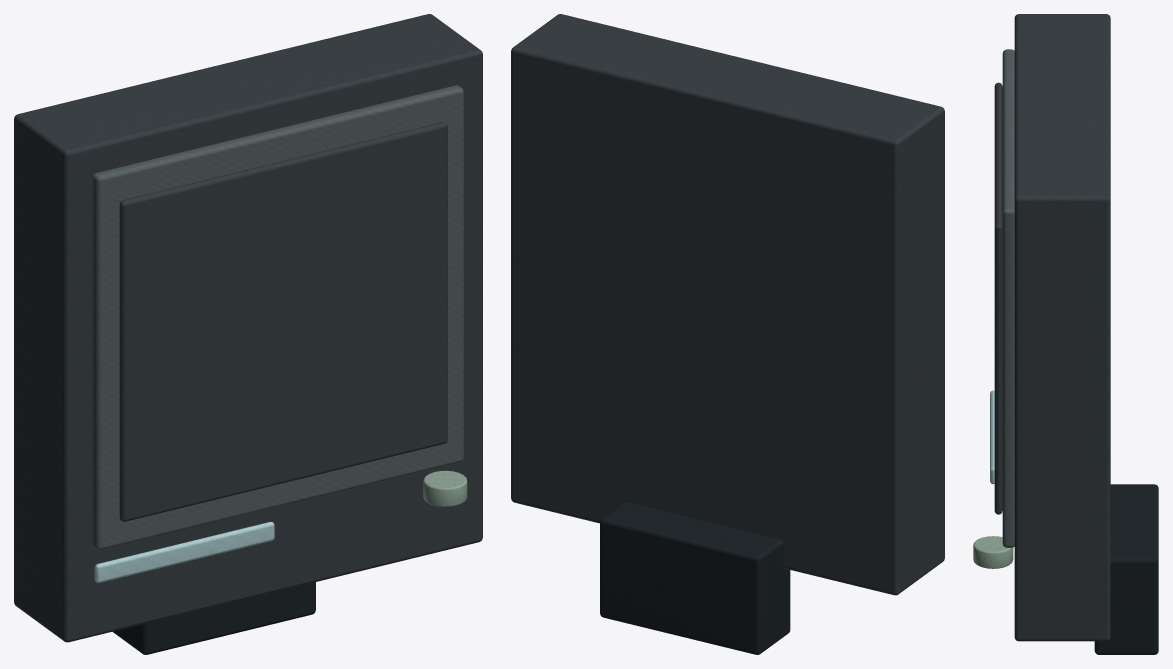
Rendered from WallMonitor.fbx.
3 views of the same model, side by side, from view 1: azimuth 30°, elevation 25°; view 2: azimuth 150°, elevation 25°; view 3: azimuth 270°, elevation 25° (orthographic). The views are drawn at different scales.
Visible parts, largest first — view 1: WallMonitor_Mesh; view 2: WallMonitor_Mesh; view 3: WallMonitor_Mesh.
Part boxes in pixels (x1=…): WallMonitor_Mesh: x1=14, y1=14, x2=482, y2=654; WallMonitor_Mesh: x1=511, y1=14, x2=944, y2=654; WallMonitor_Mesh: x1=973, y1=14, x2=1158, y2=654.
Bounding box in the file's own units: 82 × 106 × 34.75.
5 materials, 5 textured.
